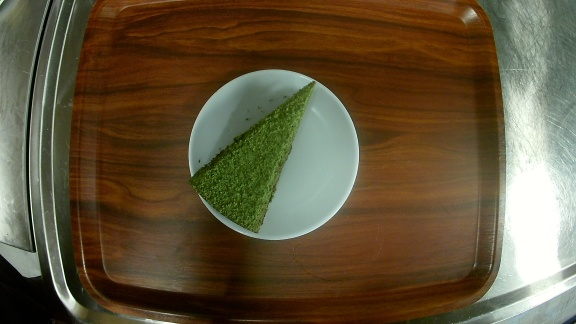fistiklipasta: (186, 68, 359, 241)
